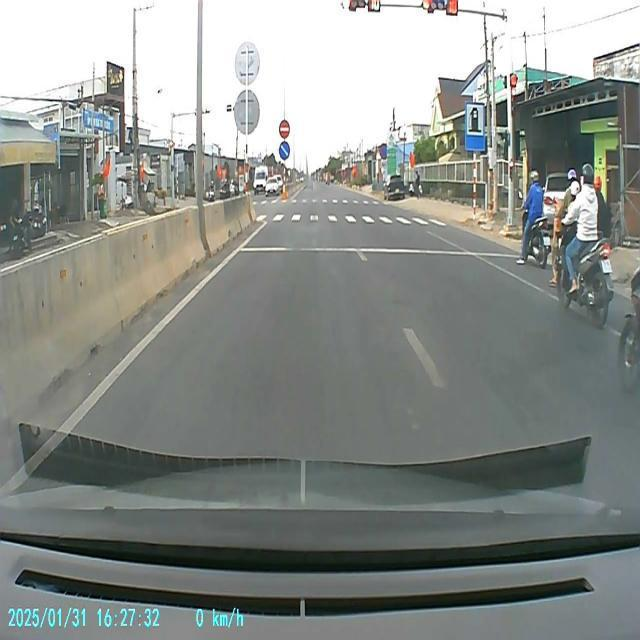102-cam-di-nguoc-chieu: (279, 120, 290, 139)
302a-huong-phai-di-vong-chuong-ngai-vat-1: (280, 141, 290, 160)
